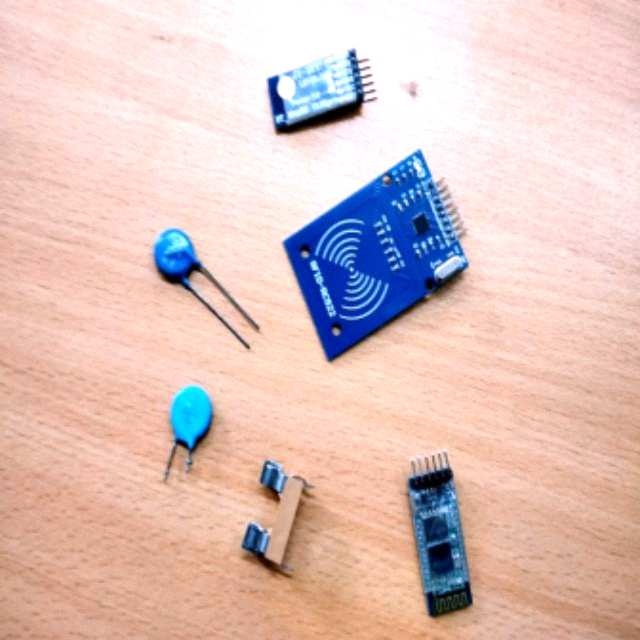capacitor: (154, 229, 254, 338), (170, 386, 212, 449)
